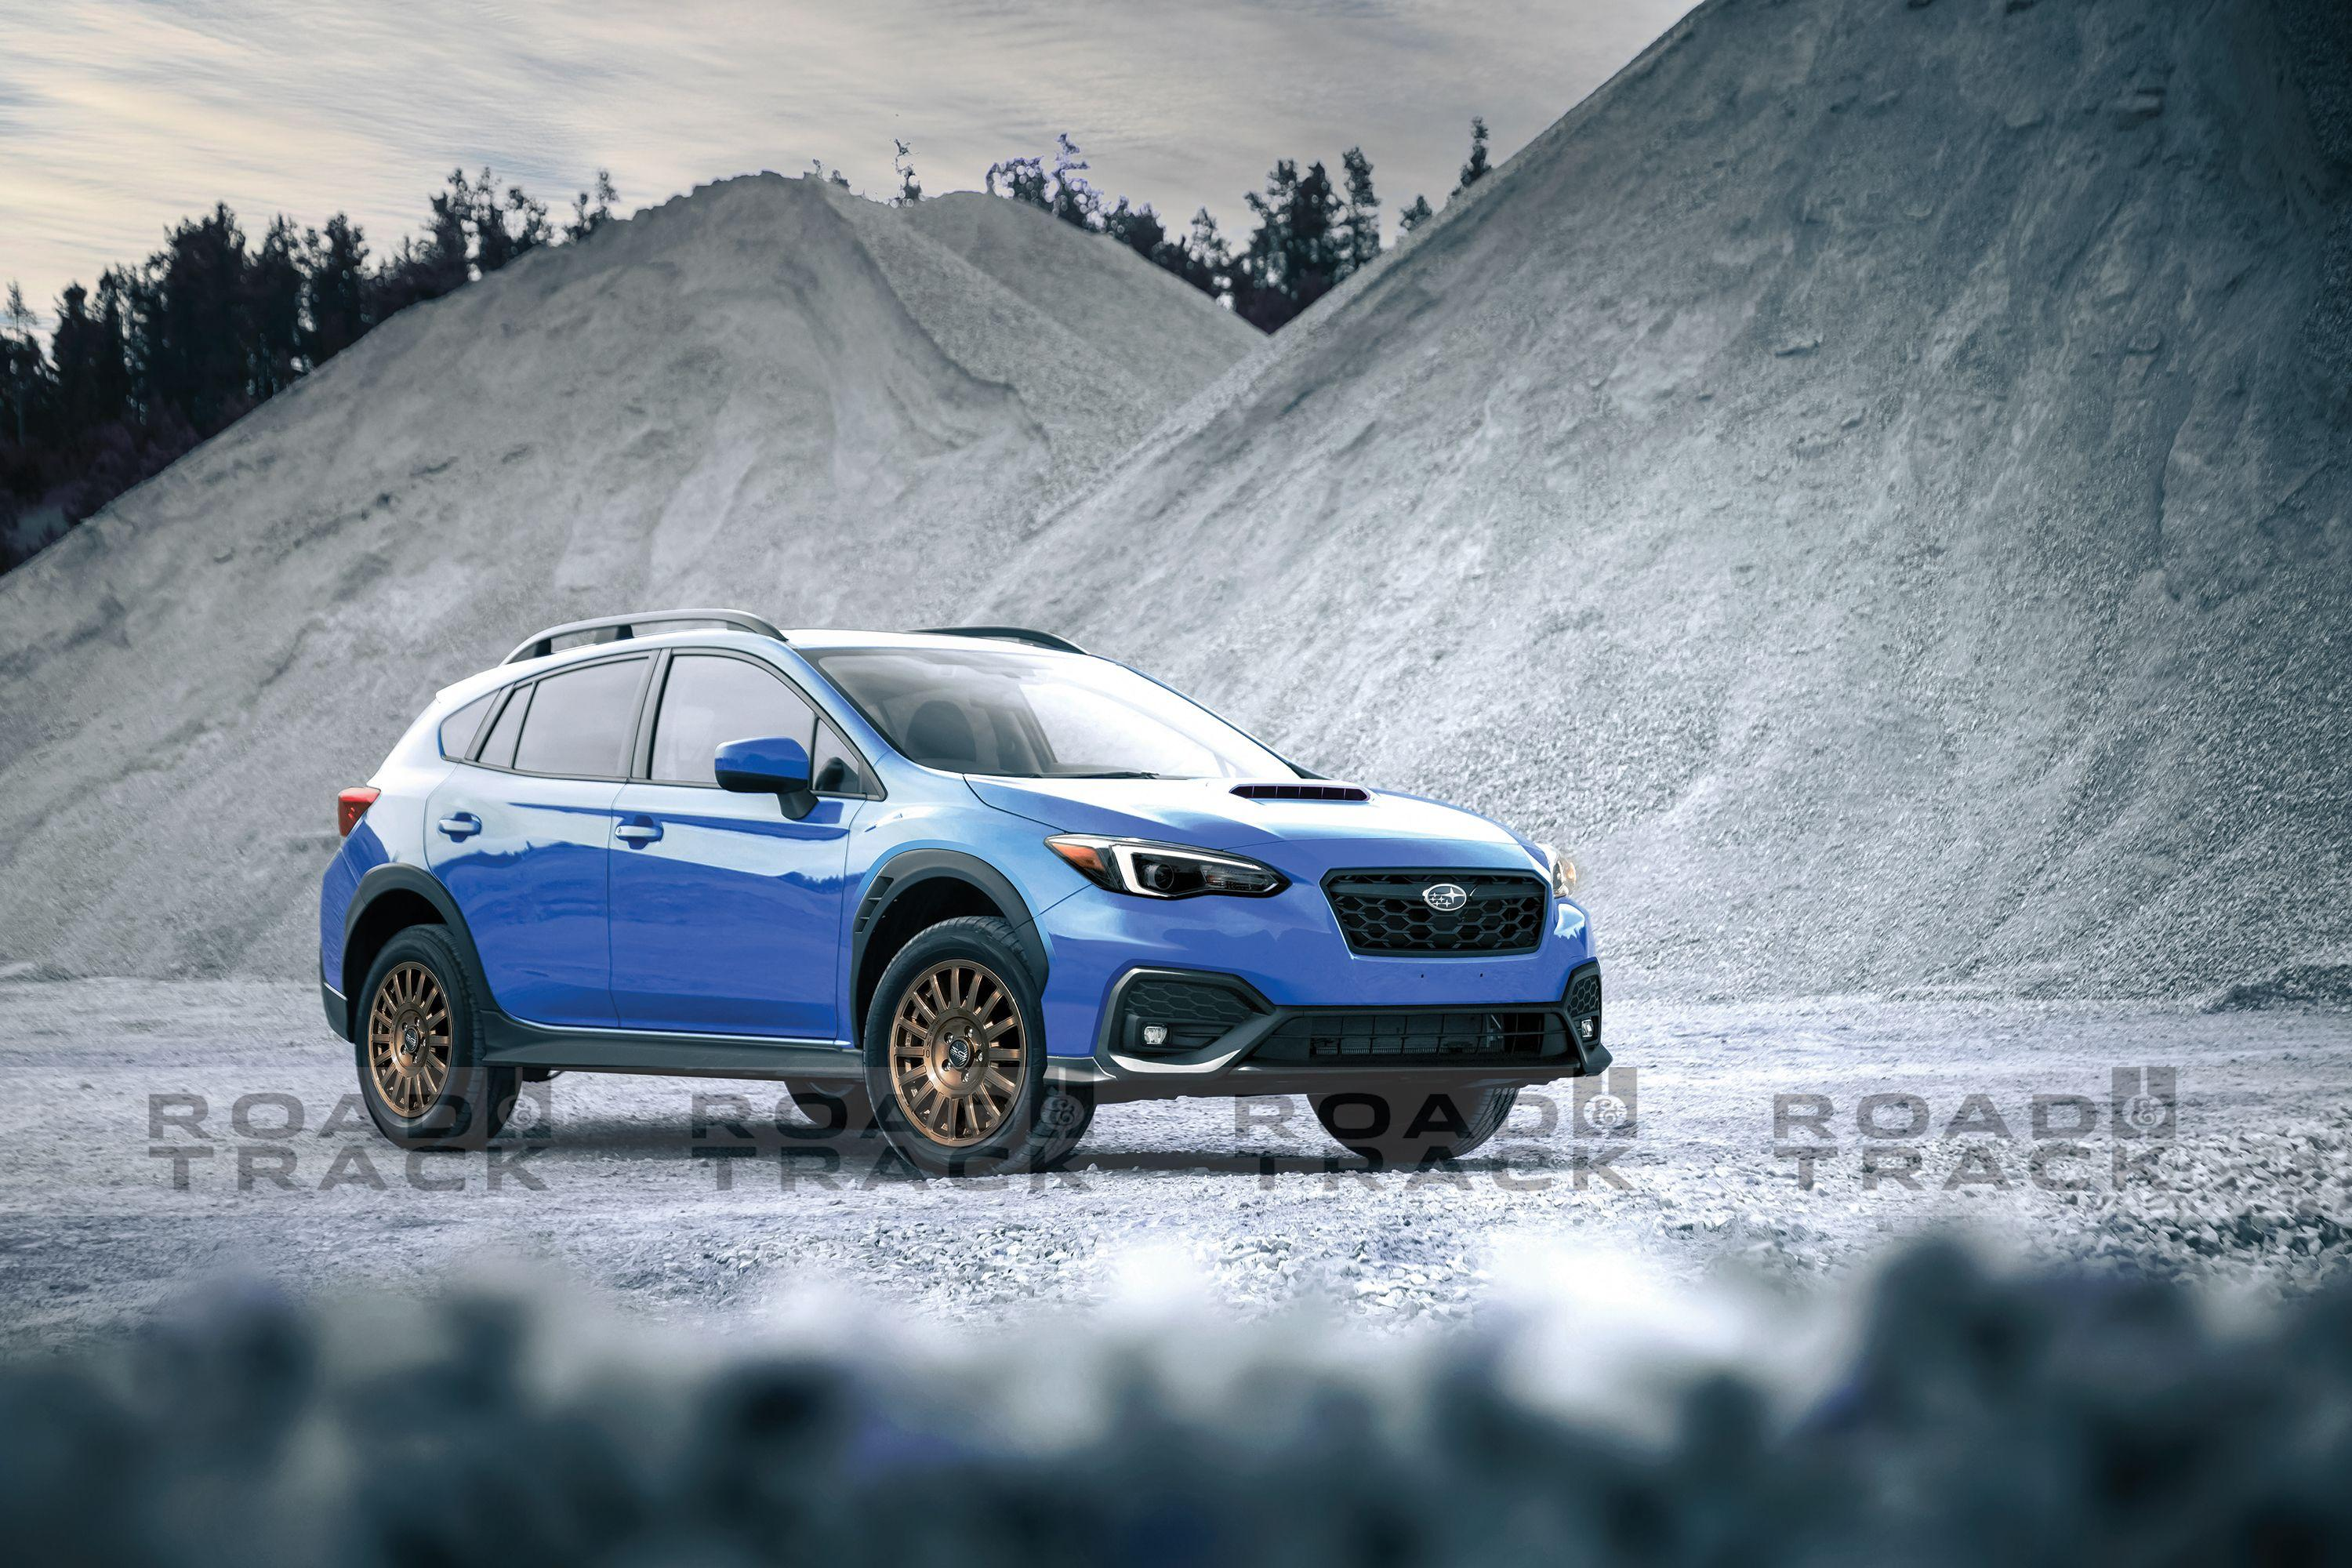subaru: (1405, 868, 1494, 929)
